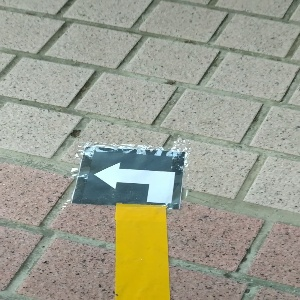left: (75, 147, 183, 209)
